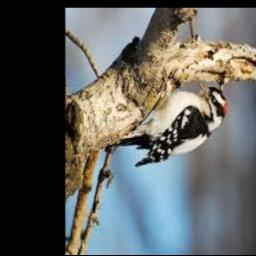Woodpecker: (112, 79, 226, 167)
